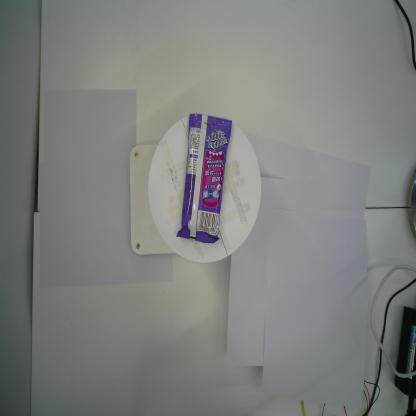Candy: (176, 113, 232, 244)
